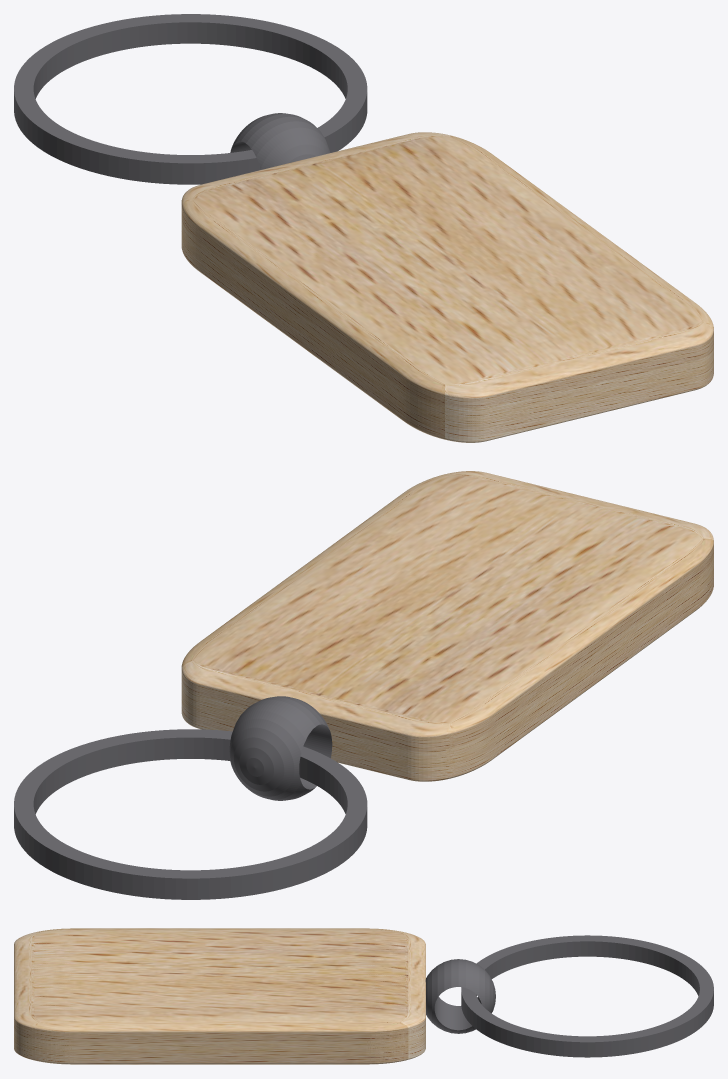
The model's file is rectangular.glb.
3 views of the same model, one above another, from view 1: azimuth 30°, elevation 25°; view 2: azimuth 150°, elevation 25°; view 3: azimuth 270°, elevation 25° (orthographic). The views are drawn at different scales.
Parts seen in each view (by area): view 1: Cube, anilla, Sphere; view 2: Cube, anilla, Sphere; view 3: Cube, anilla, Sphere.
Boxes of the visible parts, <box> form: Cube: <box>181,132,713,442</box>; anilla: <box>14,14,367,184</box>; Sphere: <box>230,113,330,169</box>; Cube: <box>181,471,713,781</box>; anilla: <box>14,729,367,899</box>; Sphere: <box>229,696,332,800</box>; Cube: <box>14,928,425,1064</box>; anilla: <box>461,935,713,1057</box>; Sphere: <box>425,959,495,1033</box>.
Size of the model in its own units: 0.0337 by 0.01 by 0.0935.
Materials: 2 (1 with a texture image).
